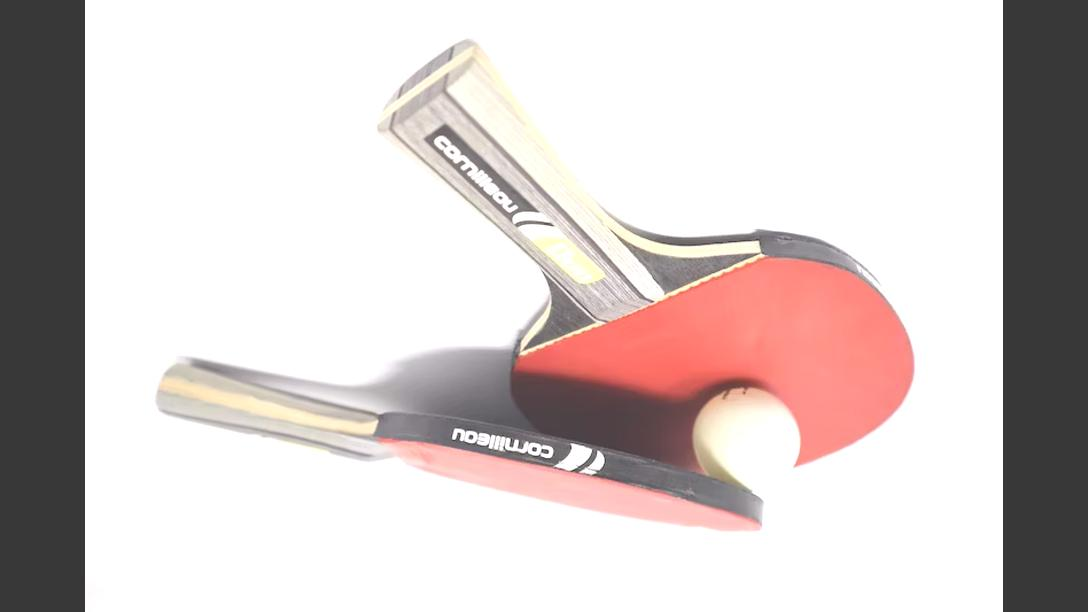Table-Tennis-Ball: (695, 390, 799, 492)
